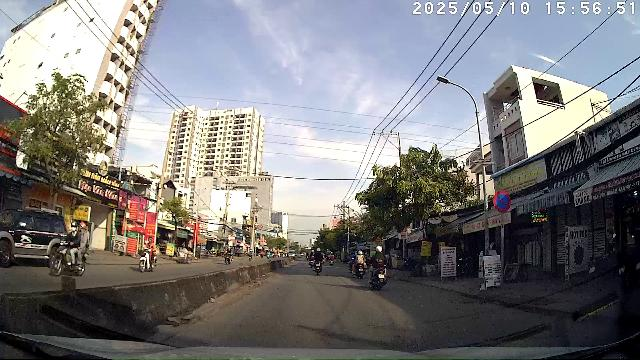131a-cam-do-xe: (493, 190, 511, 213)
